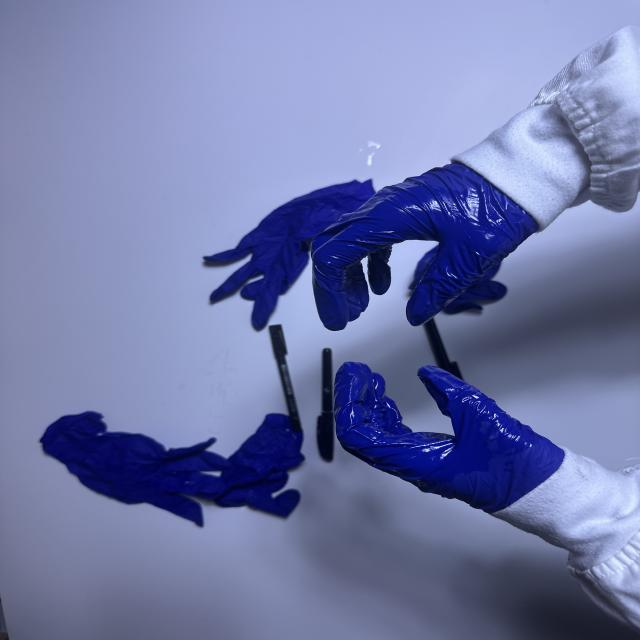gloves_contaminated: (312, 164, 537, 330), (334, 362, 564, 513)
